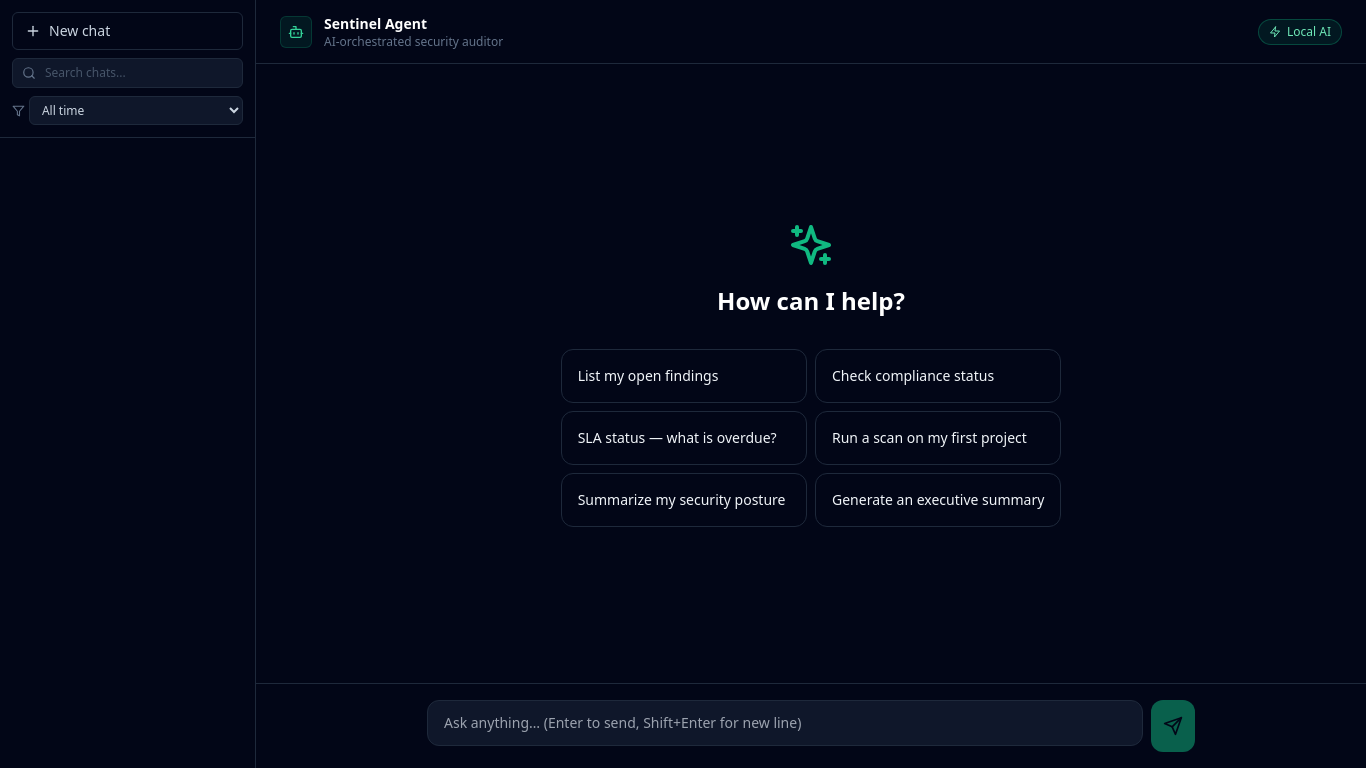
it: Chat integration flow › sends suggestion and persists user+assistant messages via agent path
Click the button "List my open findings": (684, 376) [561, 348, 807, 402]
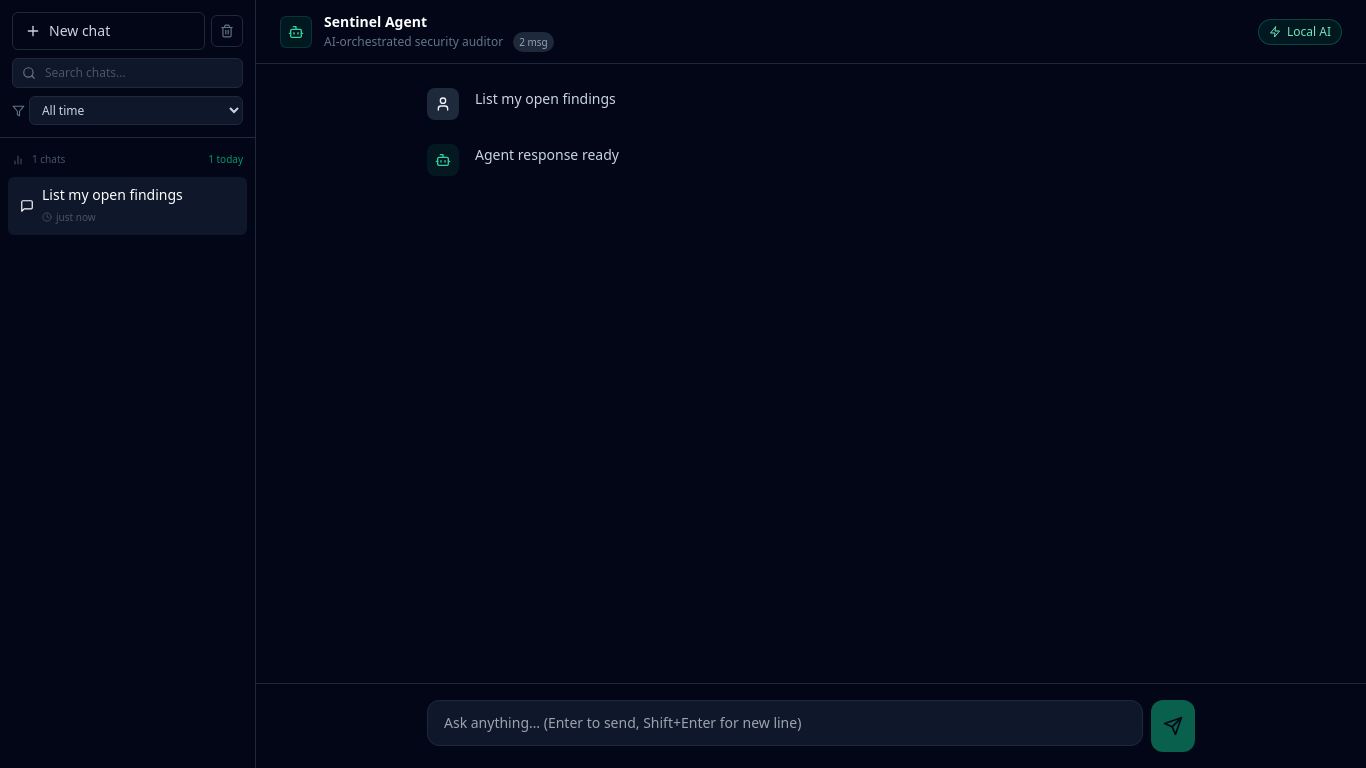
Now the text "Agent response ready" is shown, box [475, 145, 619, 164]
Now the text "List my open findings" below "1 chats" is shown, box [42, 185, 183, 204]
